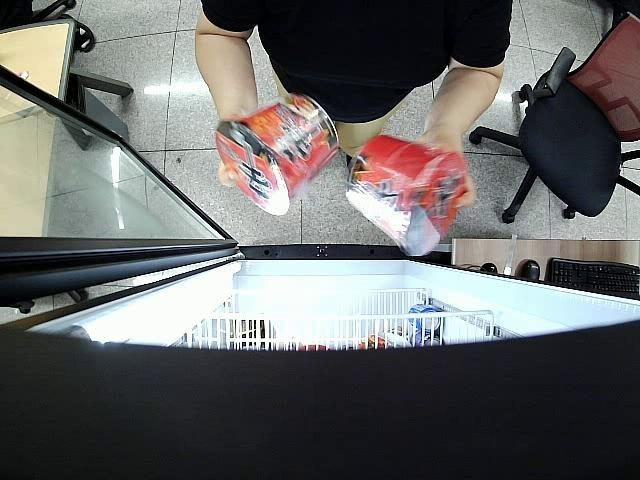01_ShinRamen_L: (346, 136, 468, 257), (217, 94, 336, 216)
